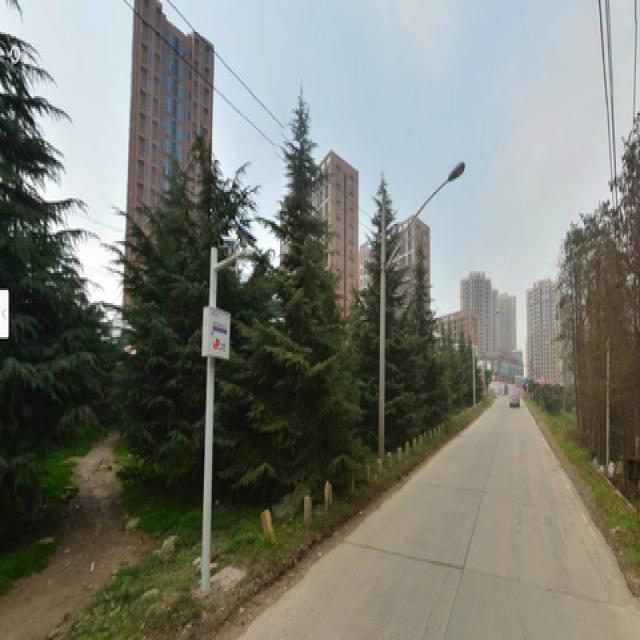cedr: (247, 102, 356, 493)
